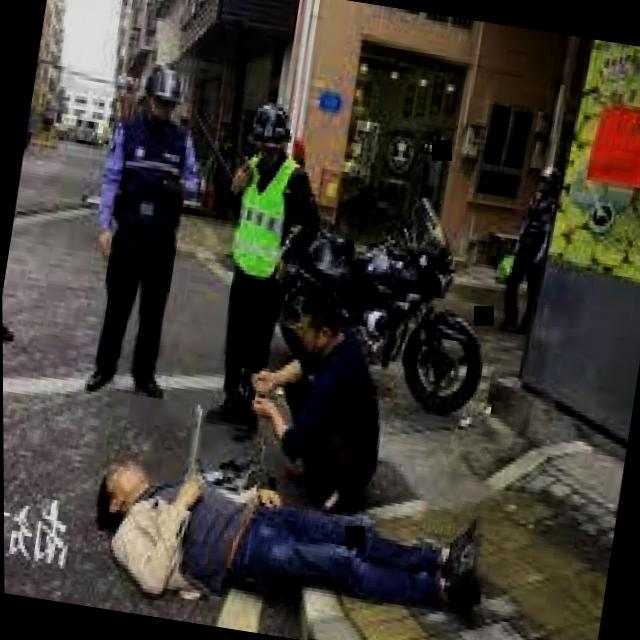Fall-Detected: (68, 432, 510, 640)
